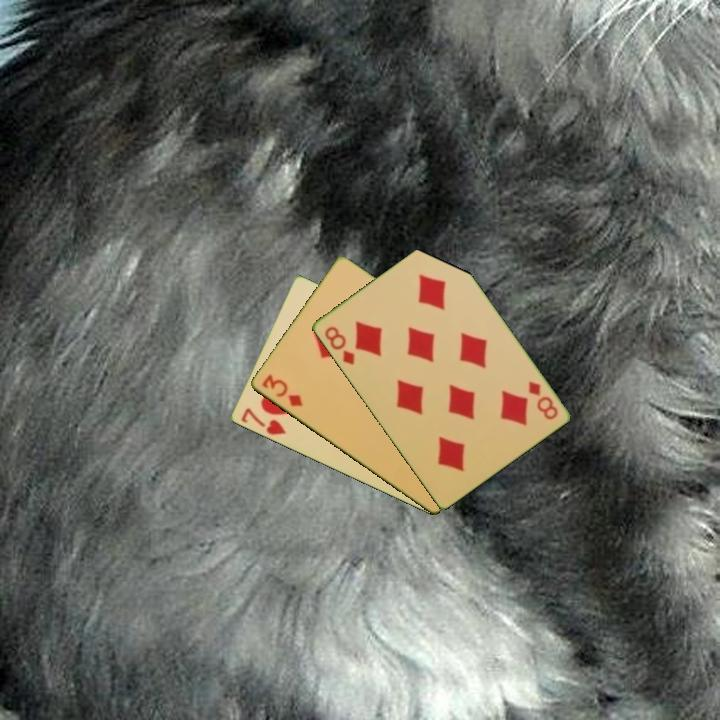3d: (258, 371, 306, 410)
7h: (237, 405, 288, 438)
8d: (321, 322, 358, 368), (524, 377, 561, 423)
